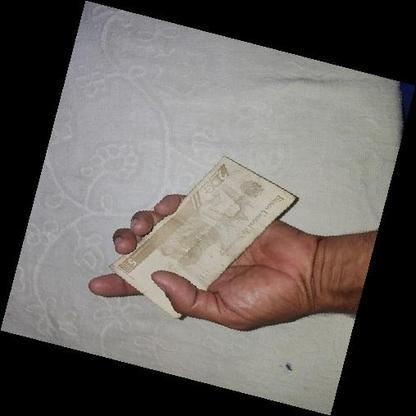five-back-vef: (108, 155, 296, 319)
